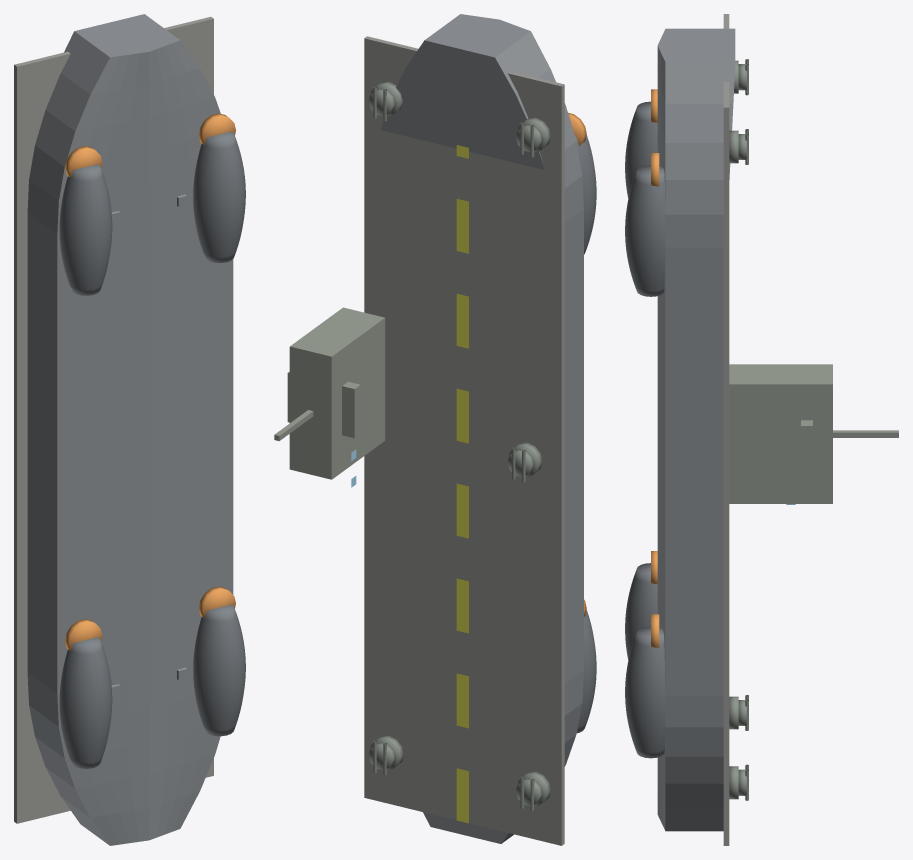
The model's file is carrier.glb.
3 views of the same model, side by side, from view 1: azimuth 30°, elevation 25°; view 2: azimuth 150°, elevation 25°; view 3: azimuth 270°, elevation 25° (orthographic). The views are drawn at different scales.
Parts seen in each view (by area): view 1: Hull, Deck, EnginePod0, EnginePod2, EnginePod1, EnginePod3, Exhaust0, Exhaust1, Exhaust3, Exhaust2; view 2: Deck, Hull, Island, Stripe, EnginePod2, EnginePod0; view 3: Hull, Island, Deck, EnginePod3, EnginePod1, EnginePod0, EnginePod2.
Boxes of the visible parts, x1,y1,x2,y2 form: Hull: [27, 14, 233, 845]; Deck: [14, 16, 213, 823]; EnginePod0: [59, 637, 112, 768]; EnginePod2: [59, 164, 112, 295]; EnginePod1: [193, 604, 245, 736]; EnginePod3: [193, 131, 245, 262]; Exhaust0: [65, 619, 102, 650]; Exhaust1: [198, 586, 235, 618]; Exhaust3: [198, 113, 235, 145]; Exhaust2: [65, 146, 102, 177]; Deck: [364, 36, 564, 845]; Hull: [381, 14, 583, 843]; Island: [274, 307, 385, 479]; Stripe: [456, 145, 468, 823]; EnginePod2: [575, 135, 596, 254]; EnginePod0: [577, 610, 596, 733]; Hull: [657, 28, 735, 831]; Island: [729, 364, 898, 503]; Deck: [723, 14, 729, 845]; EnginePod3: [625, 165, 665, 296]; EnginePod1: [625, 626, 665, 758]; EnginePod0: [625, 563, 657, 659]; EnginePod2: [625, 101, 657, 198].
Size of the model in its own units: 55.04 by 180 by 58.09.
